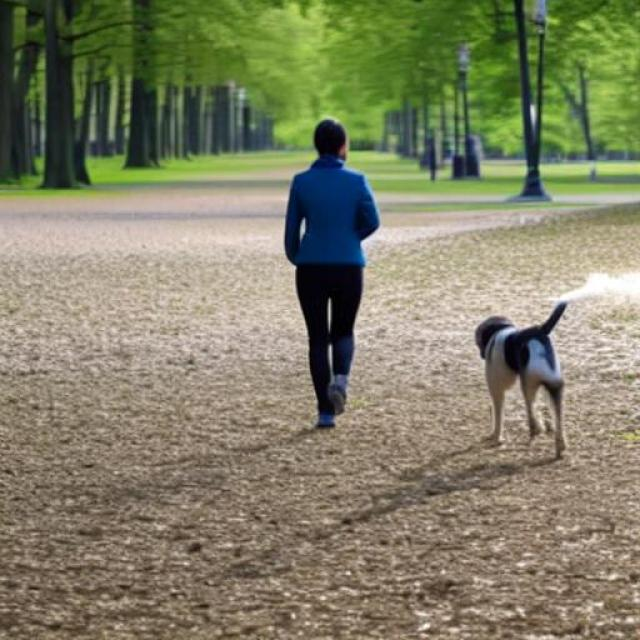Unleashed_Dog: (296, 266, 568, 453)
